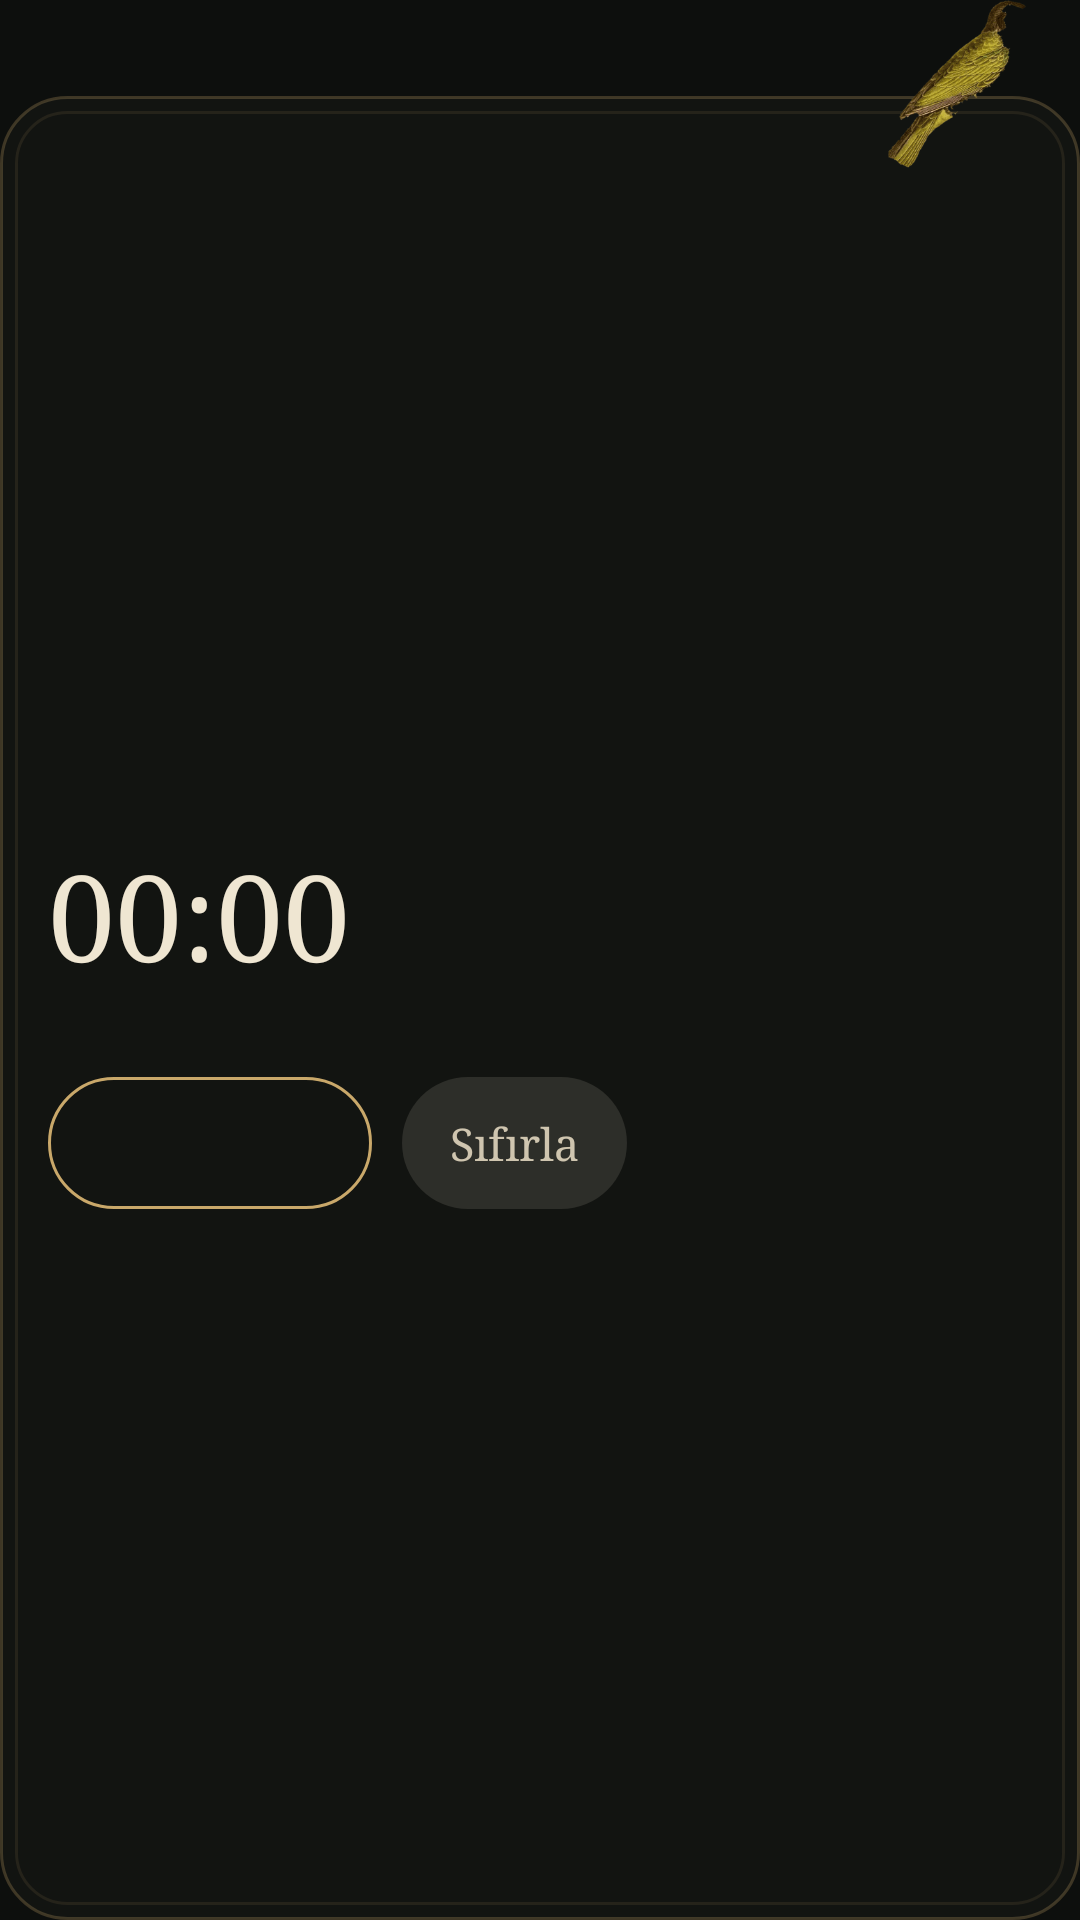

Icons on this 1080 × 1920 Android screen, each with its box as (x1=x1, y1=y1, x2=x2, y2=y2):
greenbird: (x1=888, y1=1, x2=1026, y2=168)
